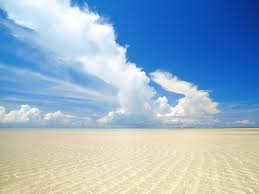beach: (4, 124, 259, 192)
sky: (2, 2, 259, 130)
